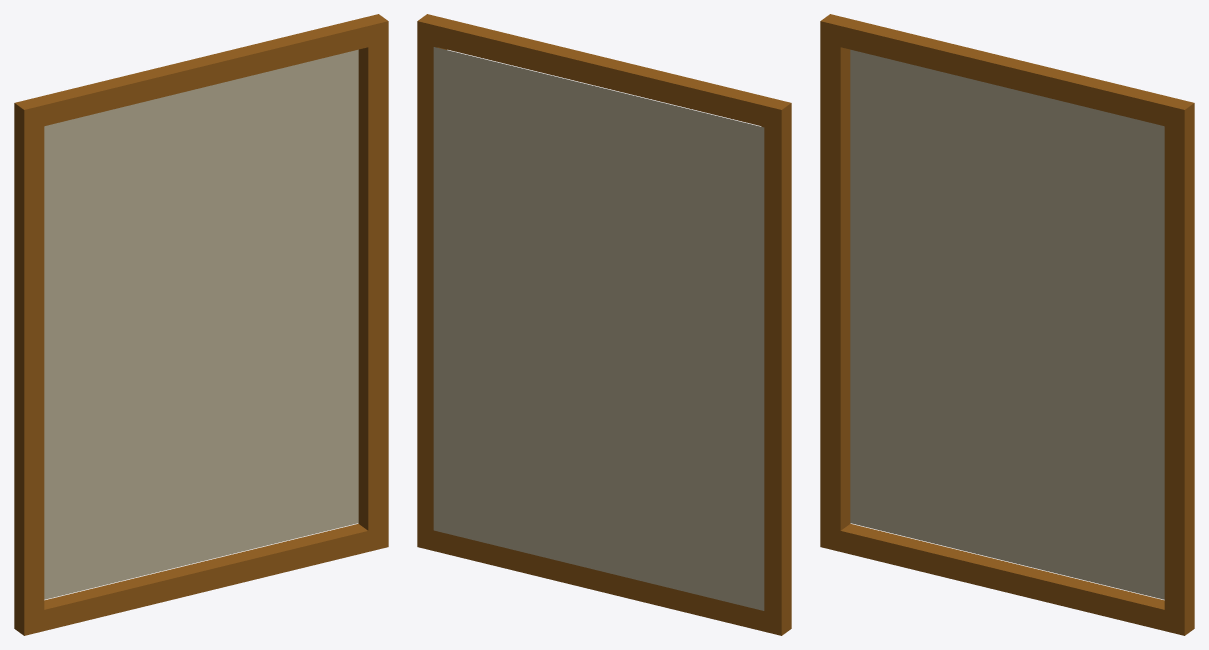
The model's file is frame.obj.
The picture shows the model from 3 angles, left to right: view 1: azimuth 30°, elevation 25°; view 2: azimuth 150°, elevation 25°; view 3: azimuth 330°, elevation 25°; orthographic projection.
Parts seen in each view (by area): view 1: picture_surface, frame_side, frame_end; view 2: picture_surface, frame_side, frame_end; view 3: picture_surface, frame_side, frame_end.
Boxes of the visible parts, x1=… form: picture_surface: x1=44, y1=49, x2=358, y2=599; frame_side: x1=14, y1=26, x2=388, y2=630; frame_end: x1=14, y1=14, x2=388, y2=635; picture_surface: x1=433, y1=47, x2=764, y2=610; frame_side: x1=417, y1=26, x2=791, y2=630; frame_end: x1=417, y1=14, x2=791, y2=635; picture_surface: x1=850, y1=49, x2=1164, y2=599; frame_side: x1=820, y1=26, x2=1194, y2=630; frame_end: x1=820, y1=14, x2=1194, y2=635.
Size of the model in its own units: 1.08 by 1.49 by 0.053.
